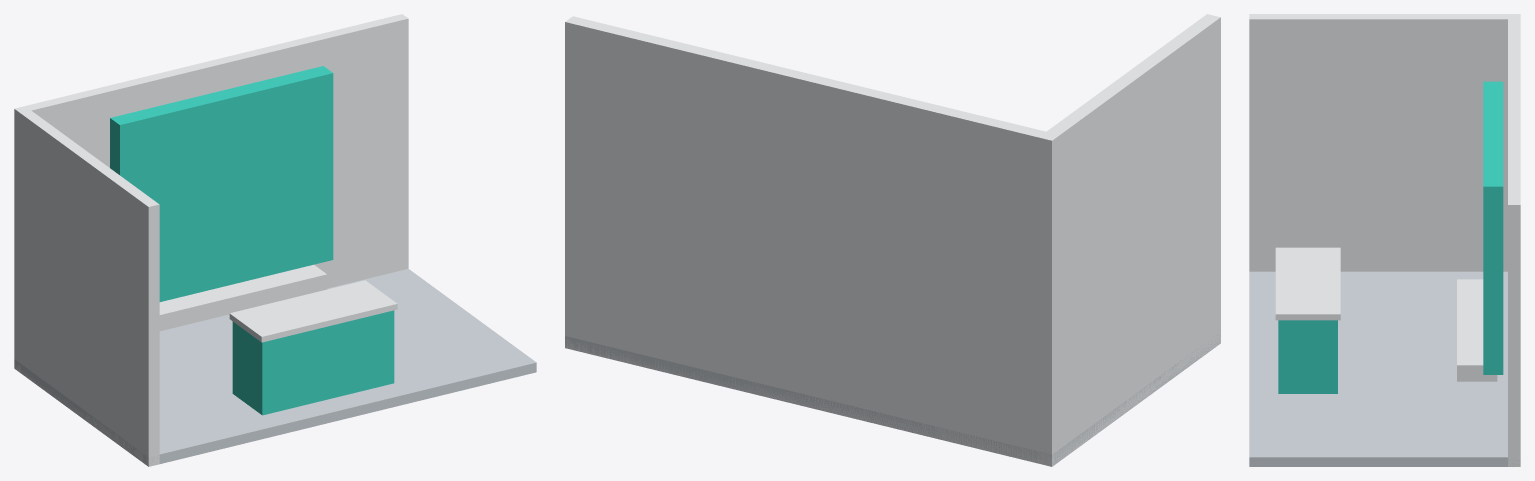
3 renders of one model, left to right at view 1: azimuth 30°, elevation 25°; view 2: azimuth 150°, elevation 25°; view 3: azimuth 270°, elevation 25°, orthographic. The views are drawn at different scales.
Visible parts, largest first — view 1: Exhibition Booth Concept; view 2: Exhibition Booth Concept; view 3: Exhibition Booth Concept.
Boxes of the visible parts, x1=… form: Exhibition Booth Concept: x1=14, y1=14, x2=536, y2=466; Exhibition Booth Concept: x1=565, y1=14, x2=1220, y2=466; Exhibition Booth Concept: x1=1249, y1=14, x2=1520, y2=466.
Size of the model in its own units: 5 by 3.2 by 3.
